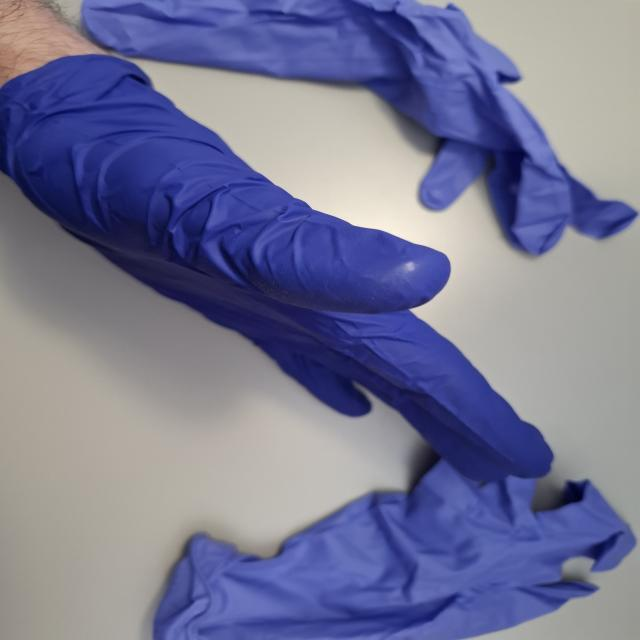glove_on: (0, 43, 557, 488)
